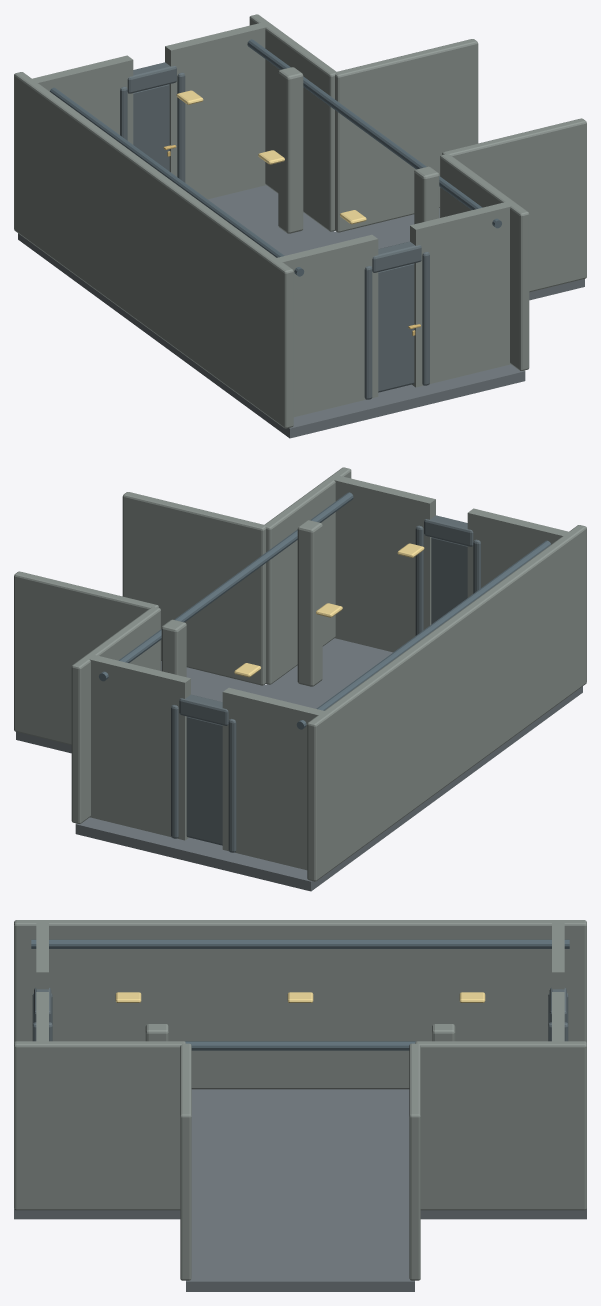
File: shelter_module.glb
3 renders of one model, top to bottom at view 1: azimuth 30°, elevation 25°; view 2: azimuth 150°, elevation 25°; view 3: azimuth 270°, elevation 25°, orthographic. The views are drawn at different scales.
Parts seen in each view (by area): view 1: Shelter_Mesh, Door_A, Door_B; view 2: Shelter_Mesh, Door_B, Door_A; view 3: Shelter_Mesh.
Boxes of the visible parts, x1,y1,x2,y2 form: Shelter_Mesh: (14,14,586,438); Door_A: (378,256,422,392); Door_B: (133,76,177,176); Shelter_Mesh: (14,467,586,891); Door_B: (178,709,222,845); Door_A: (423,529,467,629); Shelter_Mesh: (14,920,586,1291).
Bounding box in the file's own units: 8.1 × 3.4 × 10.
